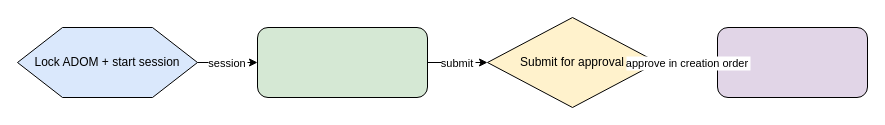
This 885x125 diagram has some shape labels left out. Here are the shapes that lost their labels. From the top down, the box of each, then its label:
(256, 26, 428, 98): Edit policy / objects
(716, 26, 868, 98): Approved → install
